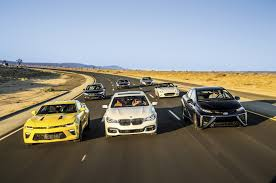car: (24, 97, 90, 147), (183, 86, 248, 130), (104, 93, 156, 138), (157, 79, 182, 101), (85, 84, 108, 98), (114, 76, 131, 89), (141, 75, 155, 86)
